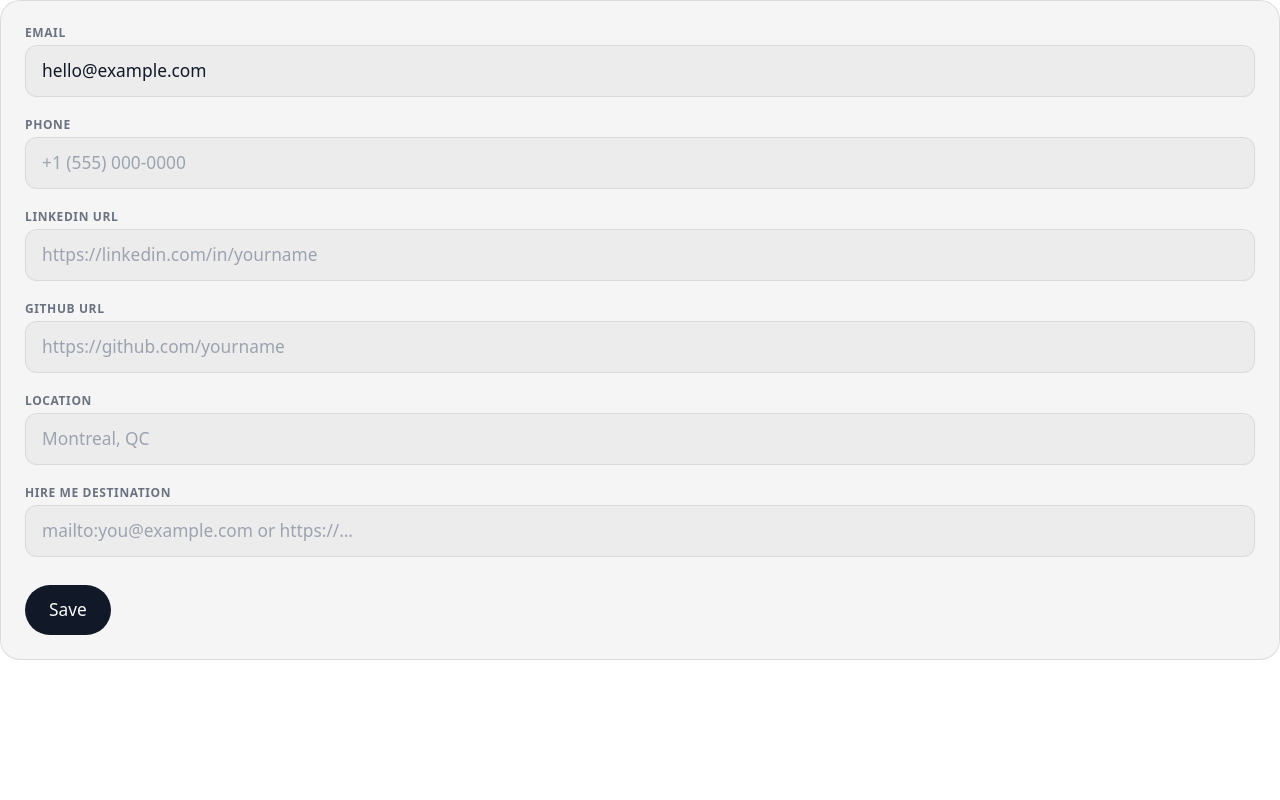
Test: ContactsEditorForm - save failure › shows an inline error and no success confirmation when the save fails
What coordinates should you click on to do the following:
click the button "Save"
I would click on:
 (68, 610)
Its box is [25,585,111,635].
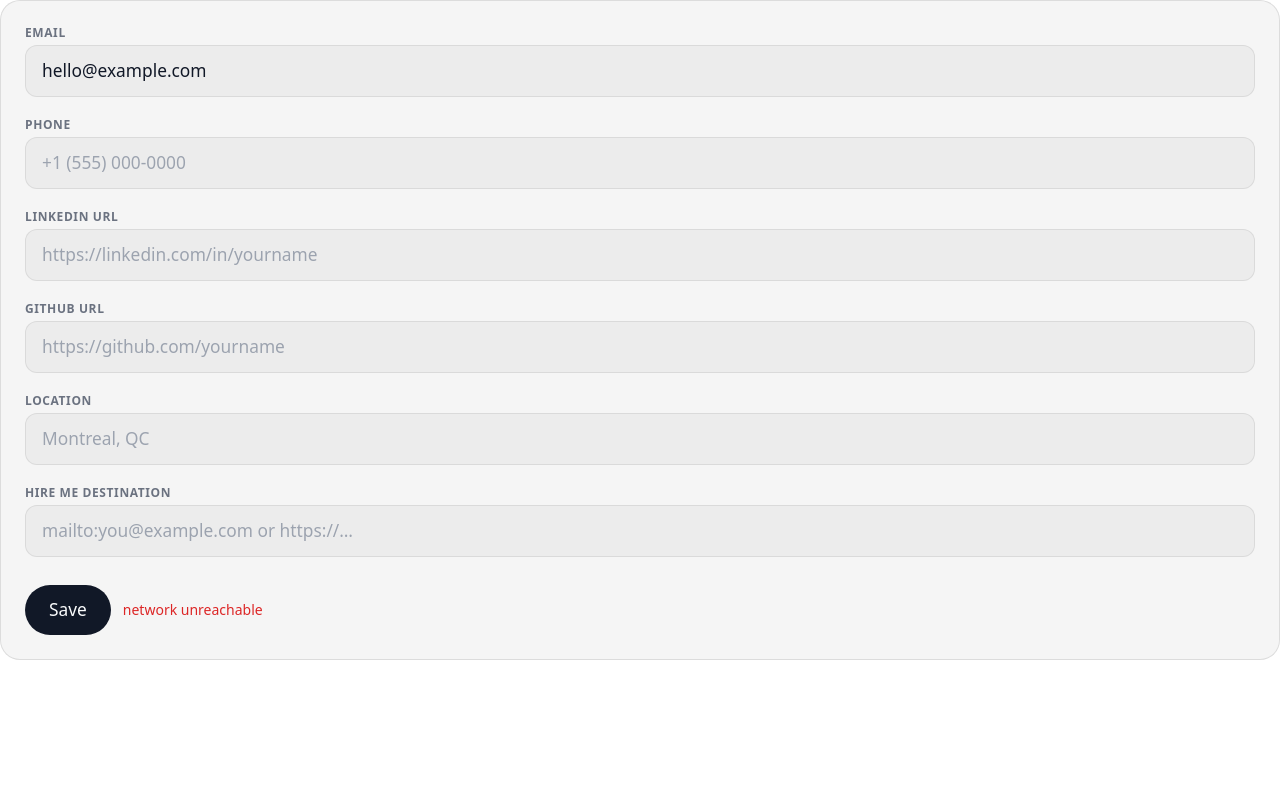
expect the message reads "network unreachable": met, box [123,600,263,619]
